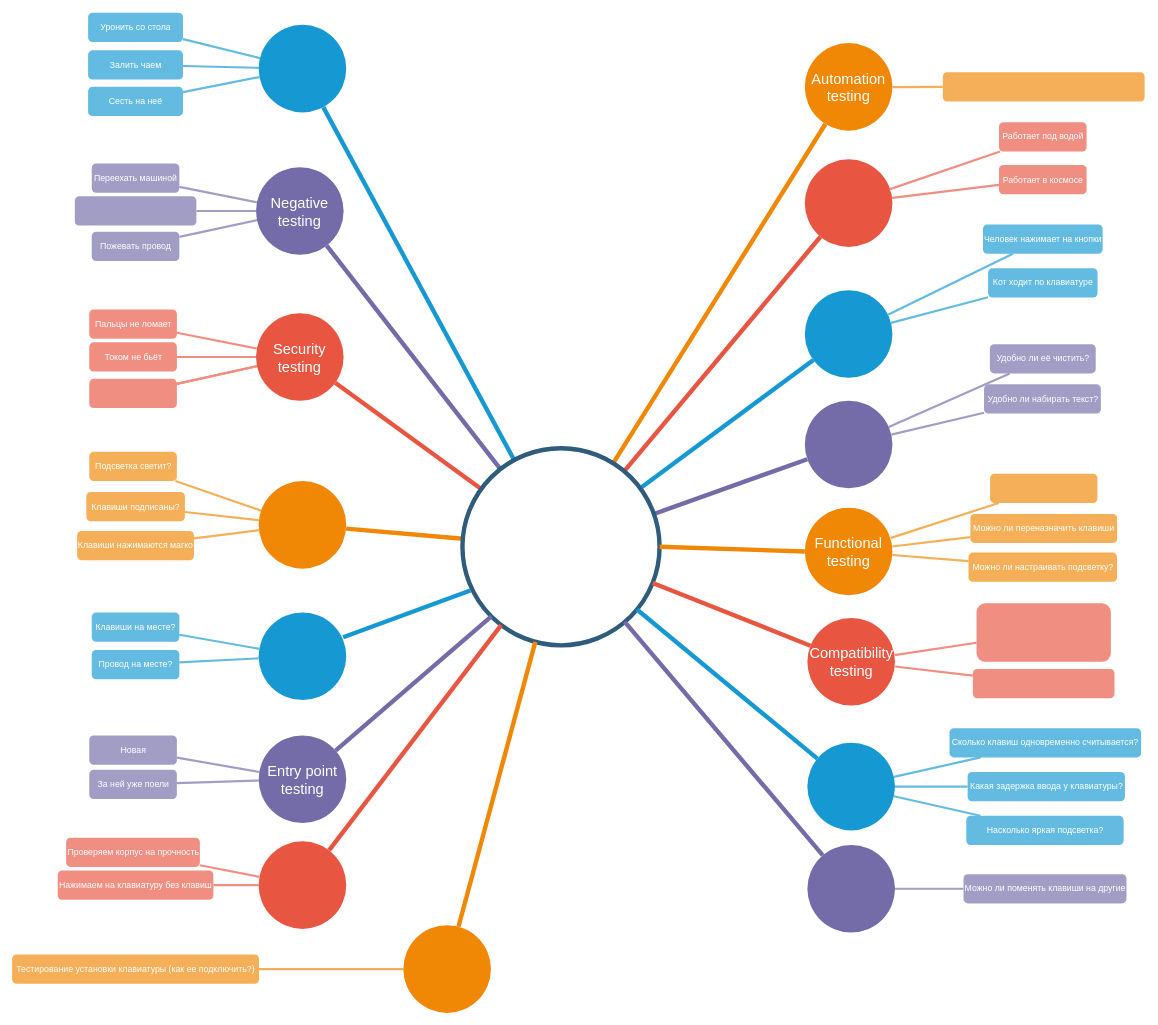
Some shapes in this 1158 by 1025 pixel diagram are drawn without their labels. Each missing label, with the centre of its shape:
"Beta testing" goes at (848,333).
"Cactus" goes at (133,393).
"Component testing" goes at (302,885).
"Installability testing" goes at (447,969).
"Integration testing" goes at (851,888).
"Performance testing" goes at (851,786).
"Stress testing" goes at (302,68).
"UI testing" goes at (302,524).
"Usability testing" goes at (848,444).
"Validation testing" goes at (848,203).
"Verification testing" goes at (302,656).
"Все клавиши работают?" goes at (1043,488).
"К каким устройствам можно подключить клавиатуру (смартфон, ПК, телевизор)?" goes at (1043,632).
"Клавиатура" goes at (560,546).
"Места хранения клавиатуры: дома, на улице, в холодильнике" goes at (1043,683).
"Разогреть в микроволновке" goes at (135,210).
"Сделать робота, который проверяет все клавиши" goes at (1043,86).
